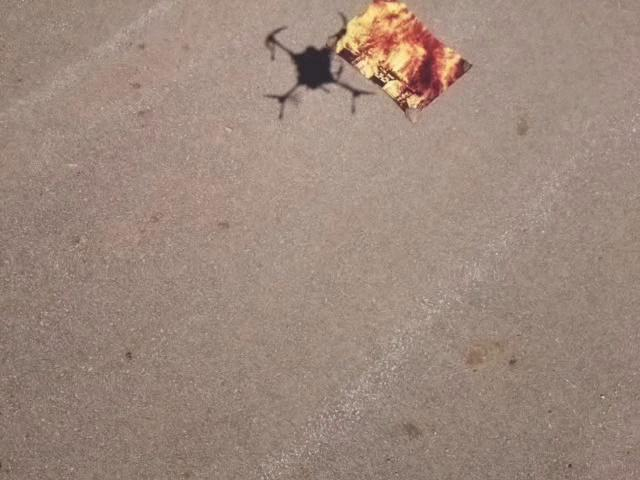fire-poster: (329, 0, 473, 123)
